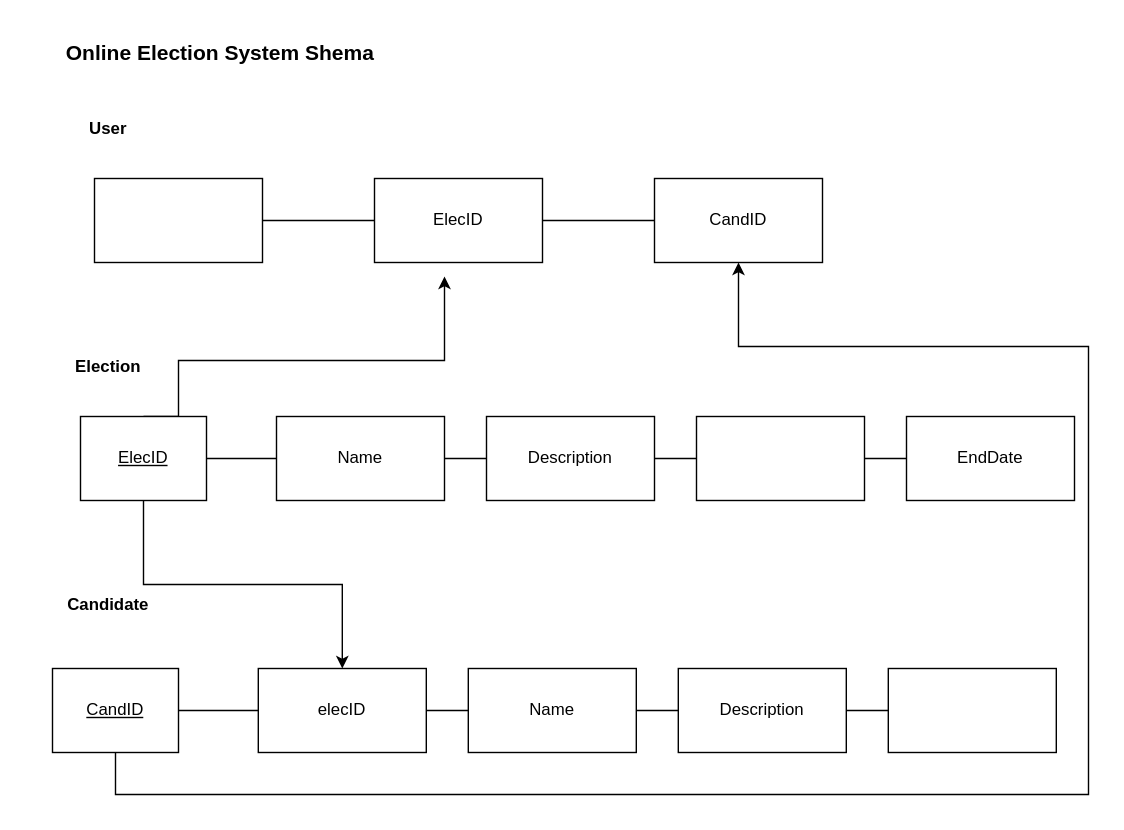
This 1124x830 diagram has some shape labels left out. Here are the shapes that lost their labels. From the top down, the centre of each, then its label:
At [177,219]: "SSN".
At [779,457]: "startDate".
At [971,709]: "NumofVote".
